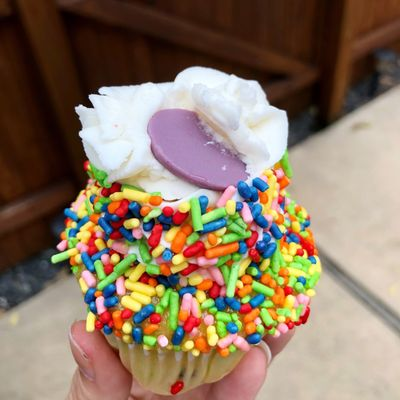salad: (54, 73, 326, 400), (57, 174, 324, 396)
sushi: (35, 64, 327, 399)
